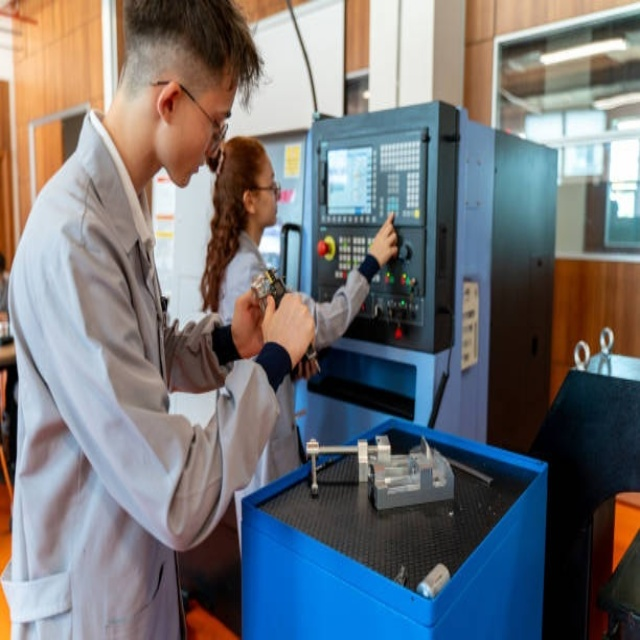Gafas: (153, 79, 231, 156), (249, 180, 281, 197)
Sin_guantes: (264, 291, 319, 375), (369, 212, 401, 268)
Sin_mascara: (175, 154, 211, 191), (261, 195, 281, 220)
